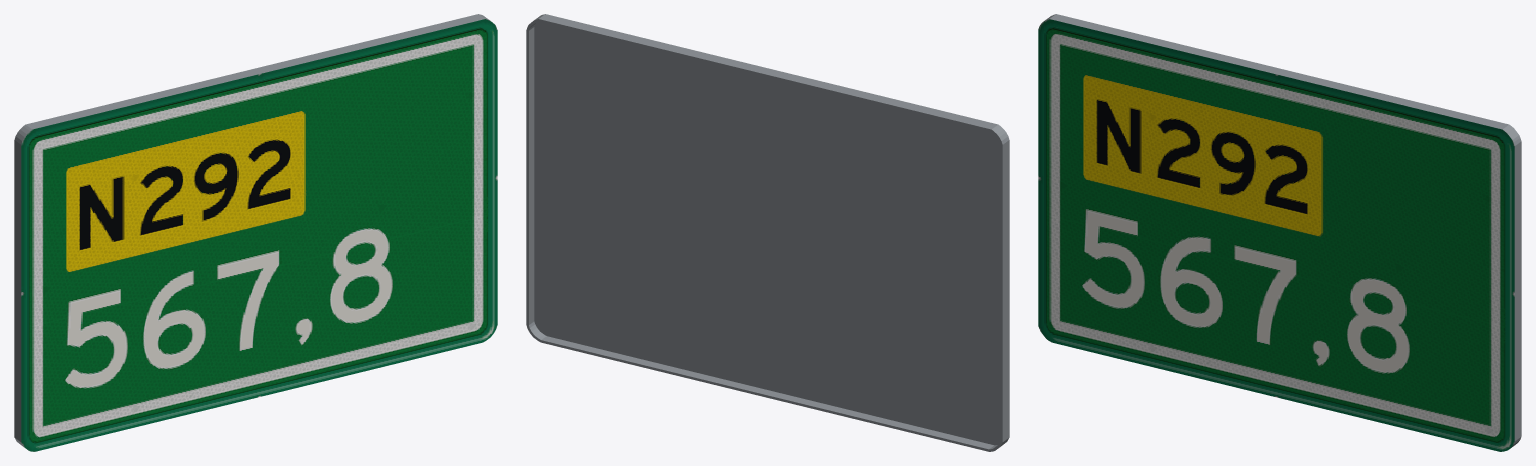
3 views of the same model, side by side, from view 1: azimuth 30°, elevation 25°; view 2: azimuth 150°, elevation 25°; view 3: azimuth 330°, elevation 25° (orthographic).
Parts seen in each view (by area): view 1: cat_f0dce8317a118b3a; view 2: cat_f0dce8317a118b3a; view 3: cat_f0dce8317a118b3a.
Part boxes in pixels (x1,y1,x2,y2): cat_f0dce8317a118b3a: [14, 14, 497, 451]; cat_f0dce8317a118b3a: [526, 14, 1009, 451]; cat_f0dce8317a118b3a: [1038, 14, 1521, 451].
Size of the model in its own units: 0.6 by 0.015 by 0.3889.
2 materials, 1 textured.
